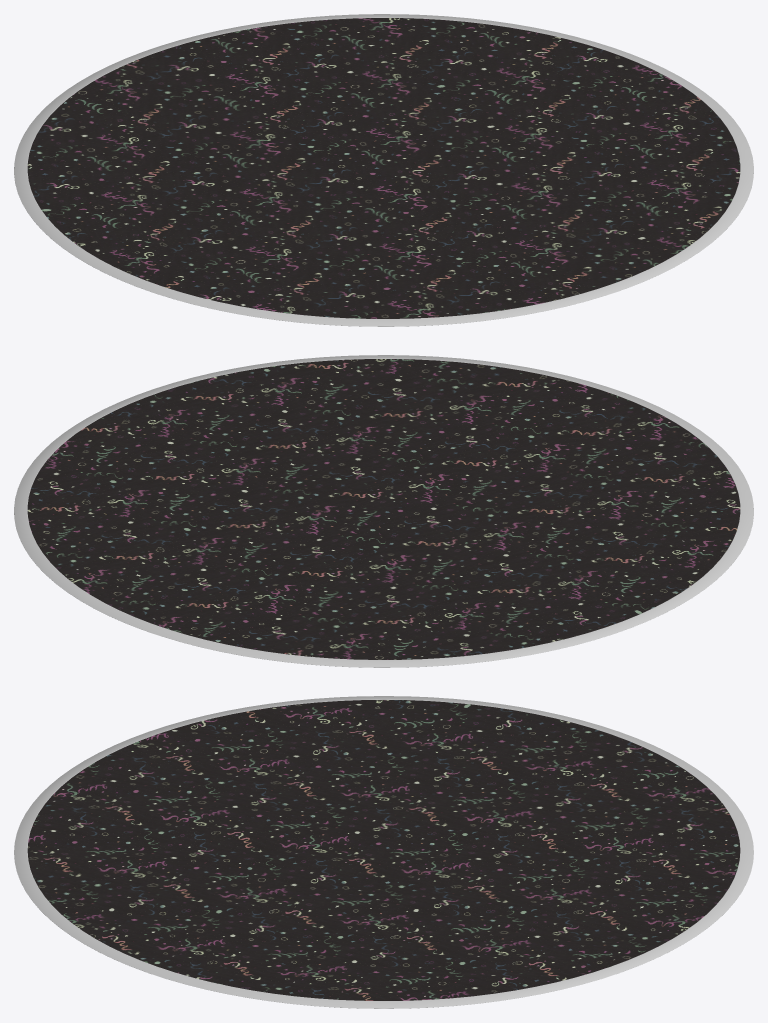
Rendered from SM_Carpets_01a.fbx.
The picture shows the model from 3 angles, top to bottom: view 1: azimuth 30°, elevation 25°; view 2: azimuth 150°, elevation 25°; view 3: azimuth 270°, elevation 25°; orthographic projection.
Visible parts, largest first — view 1: SM_Carpets_01a; view 2: SM_Carpets_01a; view 3: SM_Carpets_01a.
Boxes of the visible parts, <box> form: SM_Carpets_01a: <box>14,14,753,326</box>; SM_Carpets_01a: <box>14,355,753,667</box>; SM_Carpets_01a: <box>14,696,753,1008</box>.
Size of the model in its own units: 544 by 544 by 1.74.
2 materials, 1 textured.
